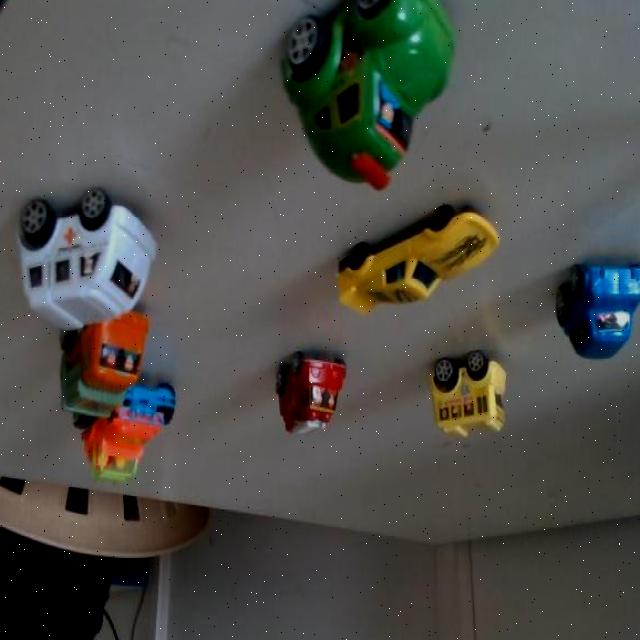car: (287, 0, 474, 191), (22, 160, 181, 354), (346, 192, 490, 325), (96, 376, 186, 491), (422, 335, 516, 443), (267, 330, 348, 448), (73, 301, 144, 425), (568, 255, 640, 361)
